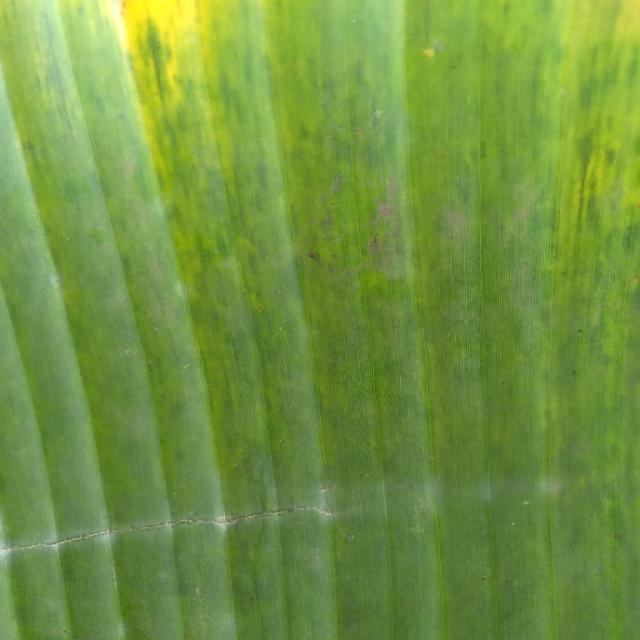Cordana: (508, 0, 640, 272), (88, 0, 272, 187)
